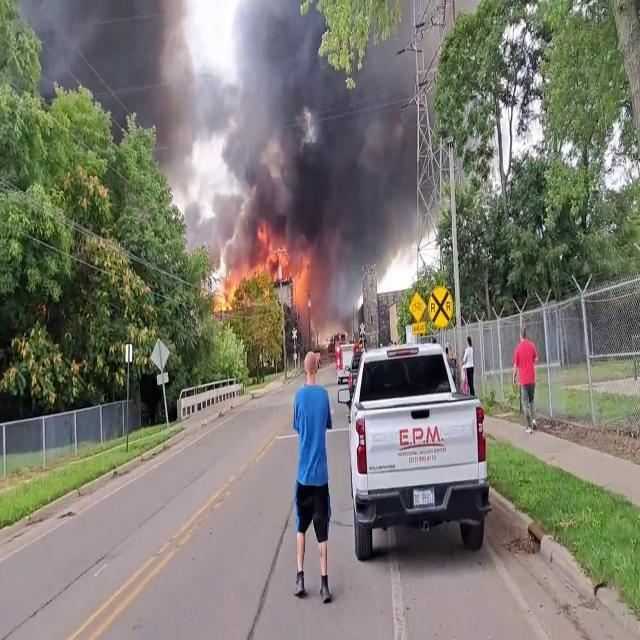Fire: (221, 226, 311, 307), (287, 253, 313, 310)
Smoke: (194, 2, 420, 276), (76, 0, 208, 186)
